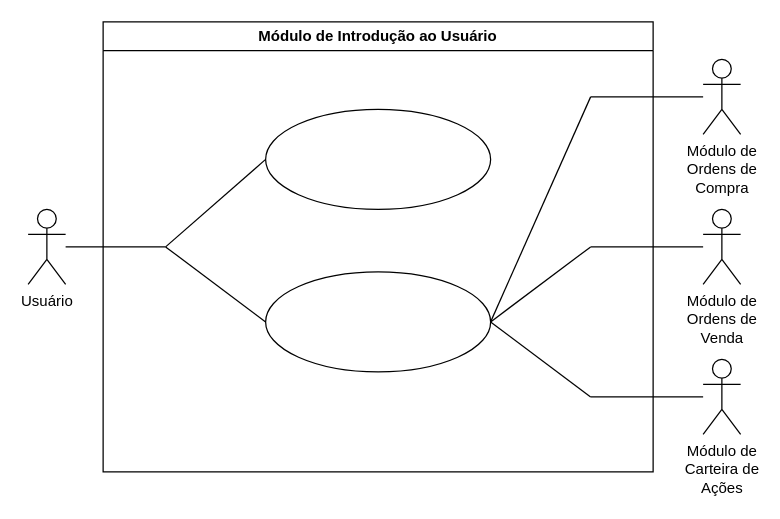
The diagram is 780 pixels wide and 519 high, and some of its shapes have lost their labels. The centre of each missing label's shape, as x and y in pixels:
UC-26 Tour para iniciantes (novos usuários): (x=377, y=158)
UC-27 Simular carteira, ordens de compra e ordens de venda: (x=377, y=321)
